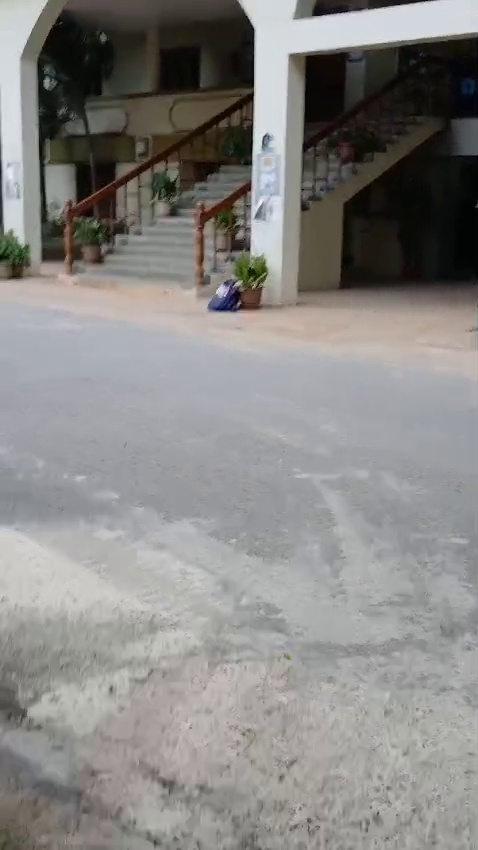bag: (200, 276, 235, 320)
